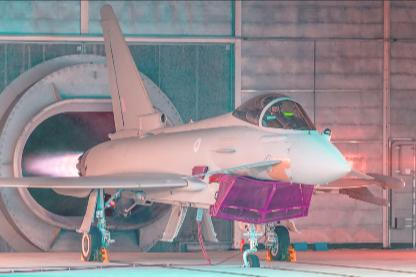E2: (0, 3, 406, 266)
